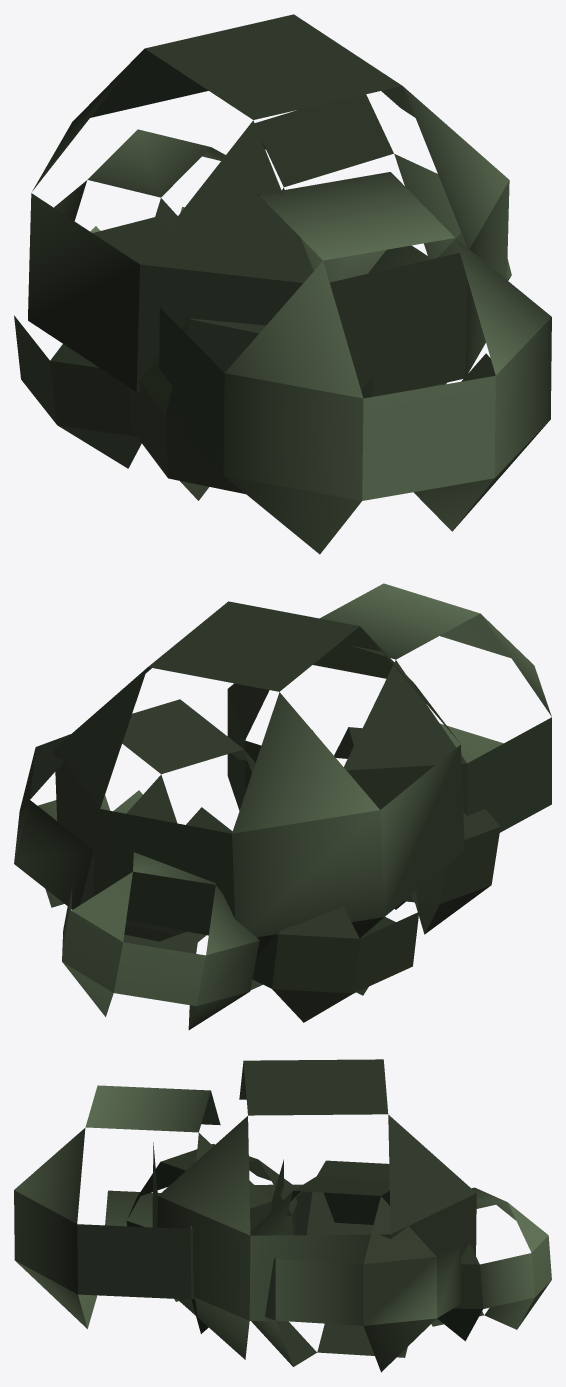
Rendered from shrub_mass.glb.
The picture shows the model from 3 angles, top to bottom: view 1: azimuth 30°, elevation 25°; view 2: azimuth 150°, elevation 25°; view 3: azimuth 270°, elevation 25°; orthographic projection. The views are drawn at different scales.
Parts seen in each view (by area): view 1: props_shrub_mass; view 2: props_shrub_mass; view 3: props_shrub_mass.
Boxes of the visible parts, box(x1,y1,x2,y2) form: props_shrub_mass: box(14, 14, 551, 554); props_shrub_mass: box(14, 583, 551, 1029); props_shrub_mass: box(14, 1059, 551, 1372).
Size of the model in its own units: 1.07 by 0.852 by 1.6.
